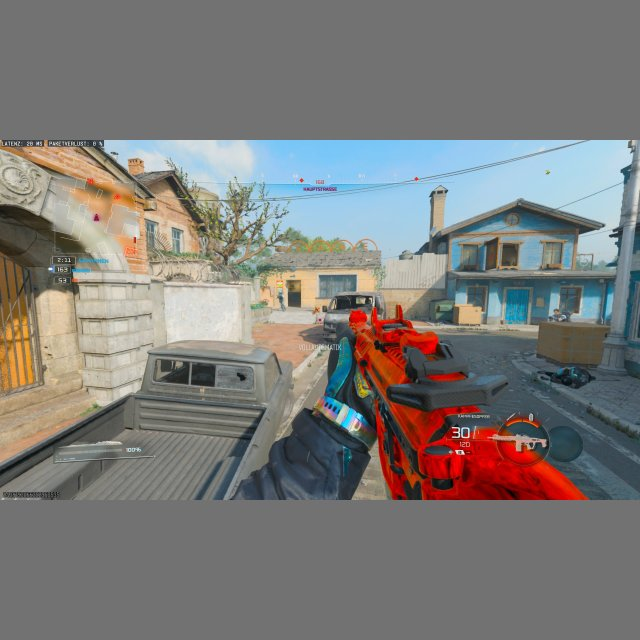player: (277, 290, 285, 311)
